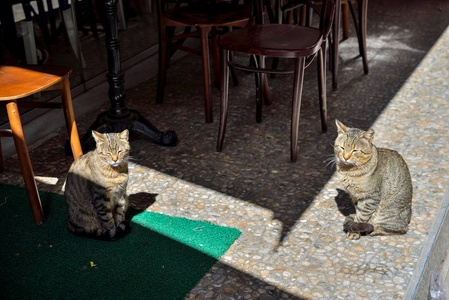cat: (333, 119, 414, 237), (63, 129, 131, 239)
